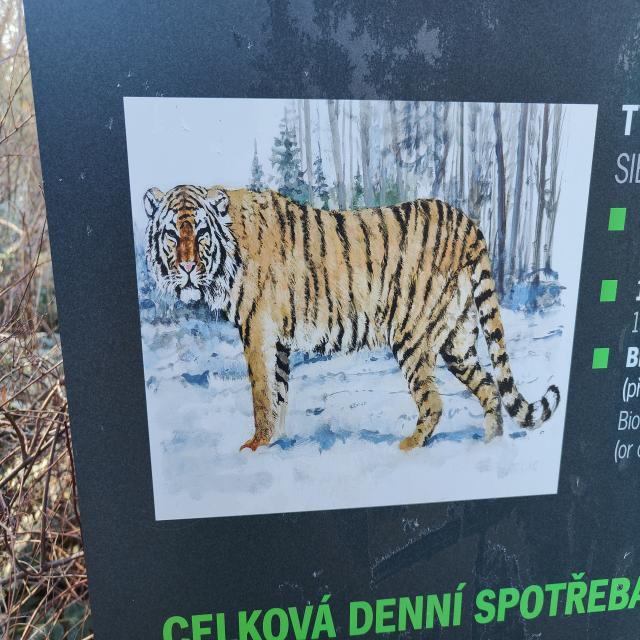tiger: (142, 185, 561, 452)
